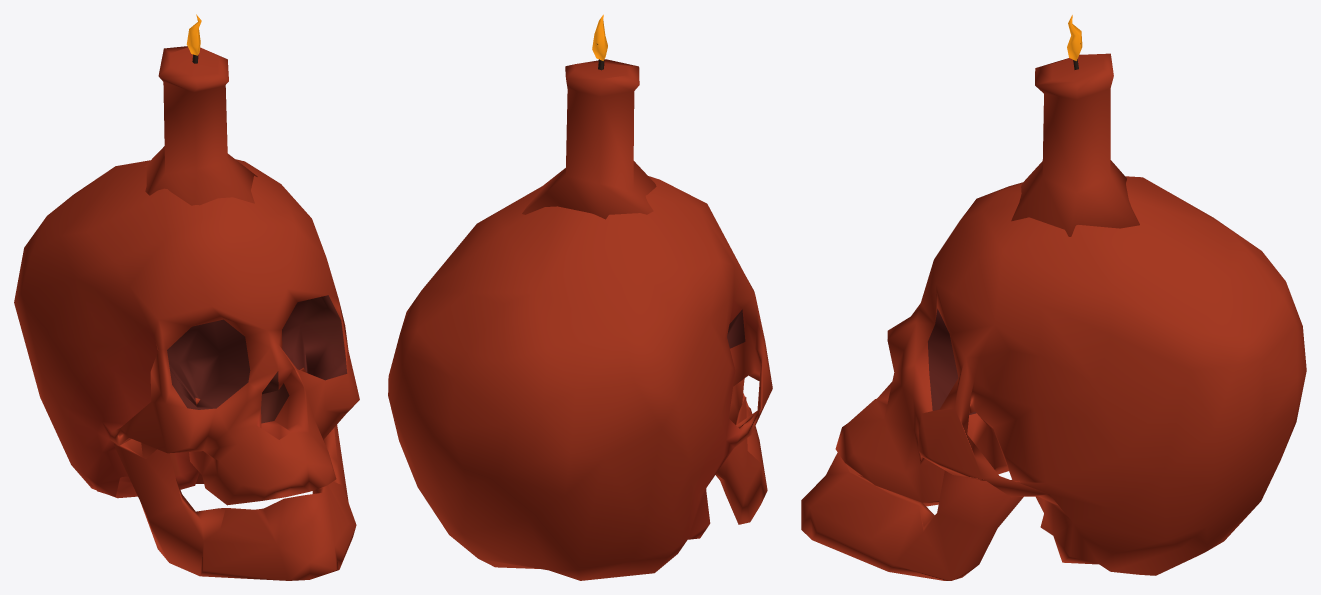
File: CandleSkullShapeB.013.glb
The picture shows the model from 3 angles, left to right: view 1: azimuth 30°, elevation 25°; view 2: azimuth 150°, elevation 25°; view 3: azimuth 270°, elevation 25°; orthographic projection. The views are drawn at different scales.
Visible parts, largest first — view 1: CandleSkullShapeB.013; view 2: CandleSkullShapeB.013; view 3: CandleSkullShapeB.013.
Part boxes in pixels (x1,y1,x2,y2): CandleSkullShapeB.013: (14,14,359,580); CandleSkullShapeB.013: (388,14,772,580); CandleSkullShapeB.013: (801,15,1306,580).
Bounding box in the file's own units: 0.2005 × 0.3649 × 0.3132.
Materials: 2 (2 with a texture image).
